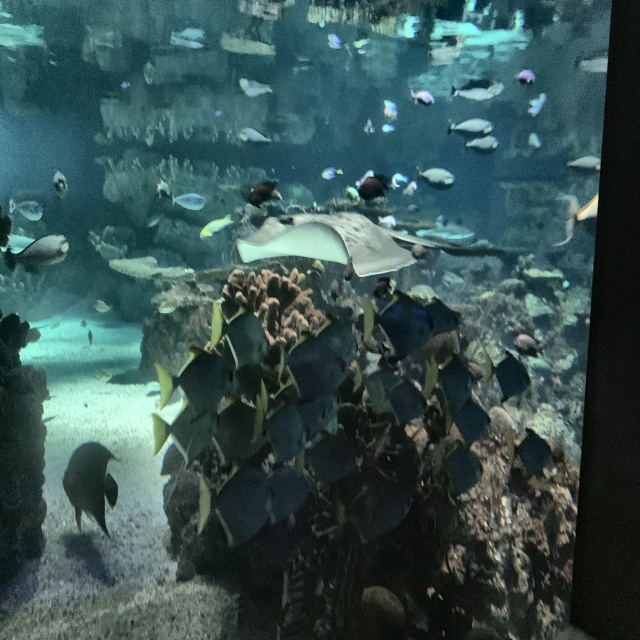fish: (191, 462, 272, 550), (337, 458, 412, 549), (151, 336, 230, 419), (60, 439, 121, 539), (201, 390, 269, 472), (360, 288, 433, 363), (277, 327, 347, 405), (146, 397, 217, 470), (249, 446, 315, 524), (293, 421, 361, 490), (363, 414, 423, 488), (206, 300, 271, 366), (253, 386, 310, 458), (4, 230, 71, 285), (482, 341, 533, 408), (107, 250, 197, 286), (219, 353, 275, 410), (352, 357, 401, 421), (509, 422, 561, 482), (381, 369, 426, 435), (434, 350, 476, 416), (414, 295, 462, 349), (440, 439, 486, 491), (421, 488, 462, 544), (451, 397, 492, 446), (565, 190, 606, 229), (452, 77, 505, 102), (417, 160, 457, 193), (511, 324, 544, 364), (197, 214, 236, 242), (449, 116, 494, 139), (170, 191, 208, 216), (9, 198, 44, 223), (357, 174, 389, 200), (465, 135, 499, 159), (567, 153, 603, 175), (240, 124, 272, 146), (52, 166, 72, 199), (240, 78, 273, 97), (155, 177, 174, 200), (410, 90, 435, 107), (515, 68, 536, 85), (92, 298, 110, 313)
stingray: (236, 203, 418, 280)
